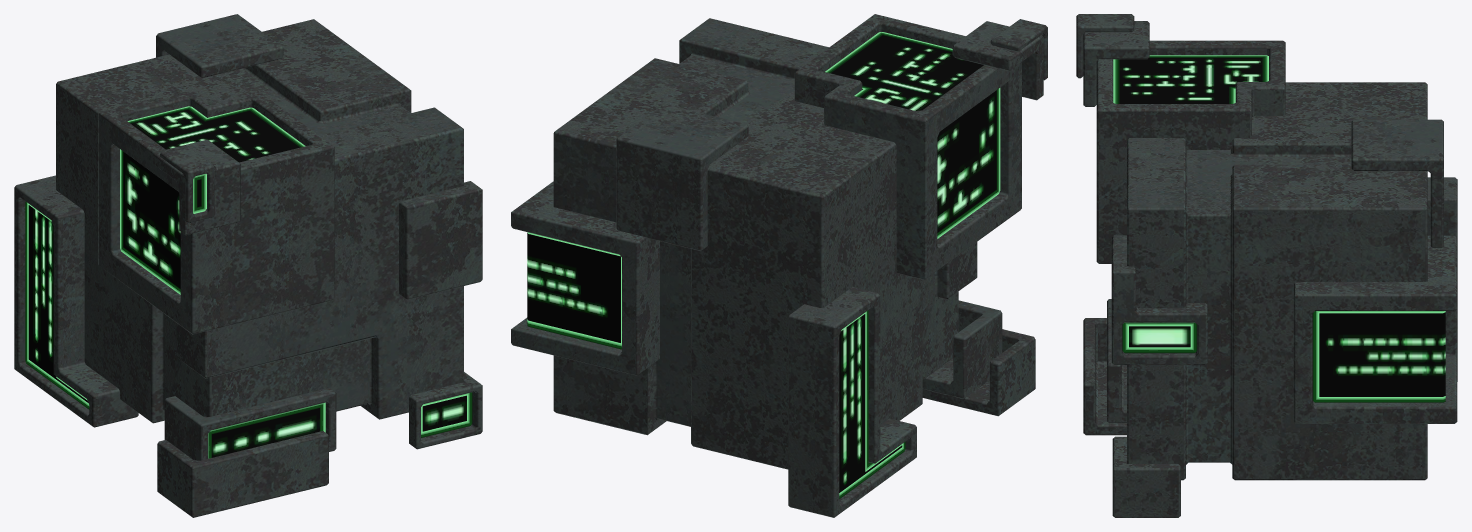
File: StructuralCore.fbx
3 renders of one model, left to right at view 1: azimuth 30°, elevation 25°; view 2: azimuth 150°, elevation 25°; view 3: azimuth 270°, elevation 25°, orthographic. The views are drawn at different scales.
Visible parts, largest first — view 1: Cube, Cube.009, Cube.029, Cube.008, Cube.014, Cube.005, Cube.002, Cube.013, Cube.010, Cube.007, Cube.012; view 2: Cube, Cube.029, Cube.009, Cube.008, Cube.002, Cube.006, Cube.013, Cube.014, Cube.010, Cube.012; view 3: Cube, Cube.029, Cube.009, Cube.006, Cube.002, Cube.005, Cube.007, Cube.014, Cube.010, Cube.013, Cube.012, Cube.008.
Boxes of the visible parts, x1=… form: Cube: x1=56, y1=19, x2=463, y2=423; Cube.009: x1=98, y1=89, x2=334, y2=334; Cube.029: x1=25, y1=106, x2=472, y2=458; Cube.008: x1=14, y1=175, x2=138, y2=427; Cube.014: x1=157, y1=431, x2=328, y2=517; Cube.005: x1=399, y1=181, x2=482, y2=299; Cube.002: x1=156, y1=14, x2=283, y2=78; Cube.013: x1=164, y1=388, x2=336, y2=460; Cube.010: x1=153, y1=139, x2=240, y2=235; Cube.007: x1=409, y1=372, x2=482, y2=449; Cube.012: x1=160, y1=145, x2=215, y2=223; Cube: x1=553, y1=18, x2=977, y2=469; Cube.029: x1=527, y1=32, x2=1000, y2=498; Cube.009: x1=794, y1=14, x2=1021, y2=279; Cube.008: x1=788, y1=287, x2=916, y2=517; Cube.002: x1=616, y1=104, x2=748, y2=250; Cube.006: x1=511, y1=181, x2=659, y2=375; Cube.013: x1=922, y1=300, x2=1002, y2=398; Cube.014: x1=922, y1=329, x2=1035, y2=416; Cube.010: x1=952, y1=21, x2=1043, y2=100; Cube.012: x1=990, y1=19, x2=1047, y2=80; Cube: x1=1127, y1=82, x2=1427, y2=480; Cube.029: x1=1113, y1=55, x2=1445, y2=402; Cube.009: x1=1096, y1=40, x2=1285, y2=263; Cube.006: x1=1293, y1=235, x2=1457, y2=423; Cube.002: x1=1351, y1=119, x2=1443, y2=247; Cube.005: x1=1111, y1=235, x2=1207, y2=364; Cube.007: x1=1112, y1=436, x2=1180, y2=517; Cube.014: x1=1083, y1=318, x2=1126, y2=435; Cube.010: x1=1083, y1=21, x2=1149, y2=106; Cube.013: x1=1107, y1=299, x2=1126, y2=423; Cube.012: x1=1076, y1=14, x2=1134, y2=78; Cube.008: x1=1427, y1=177, x2=1457, y2=381.
Size of the model in its own units: 253 by 258 by 253.
Materials: 3 (2 with a texture image).
